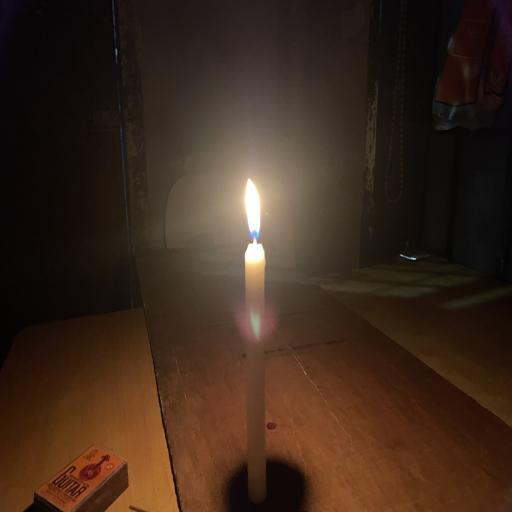fire: (218, 151, 277, 276)
